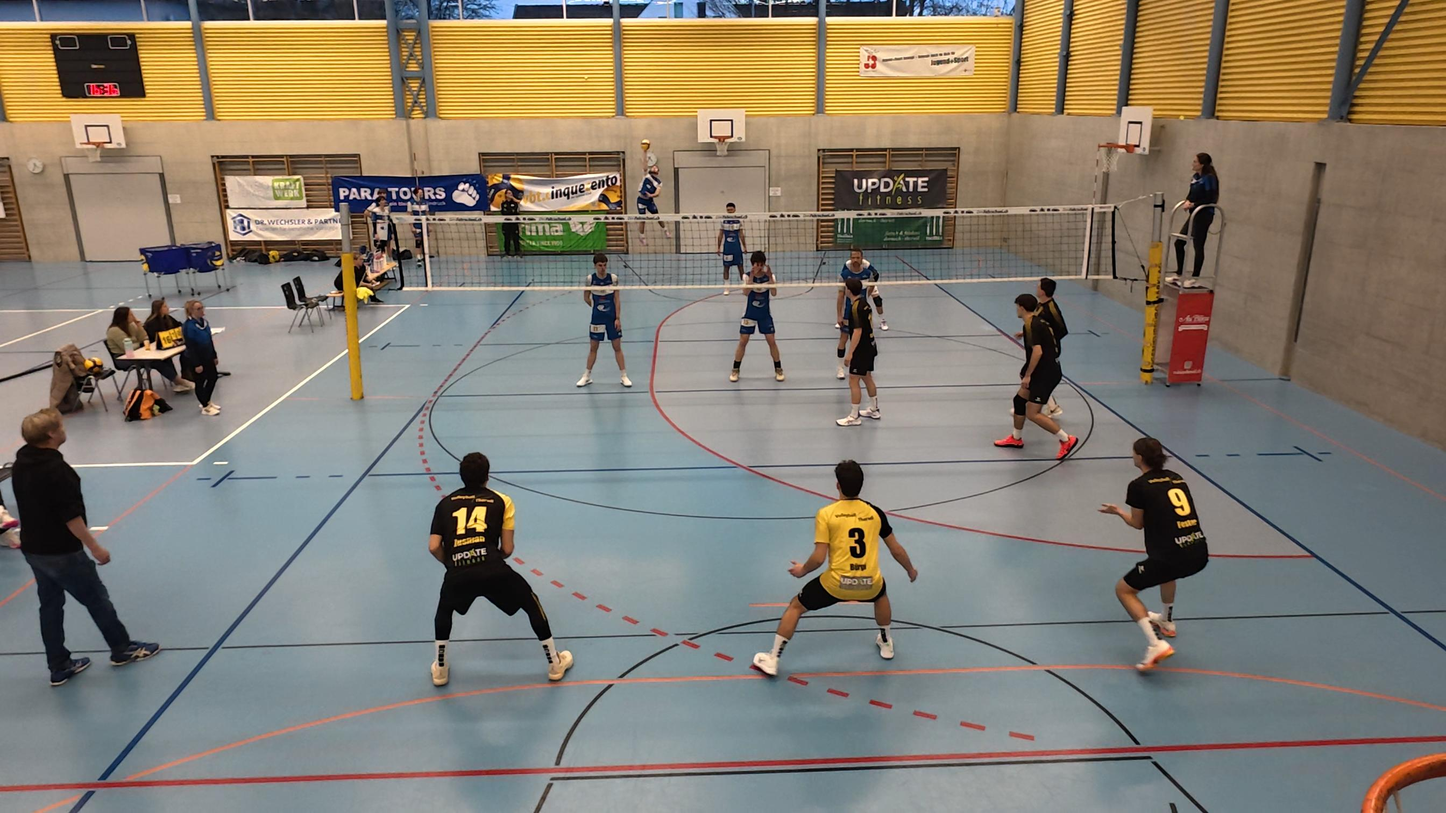battuta: (626, 140, 677, 245)
